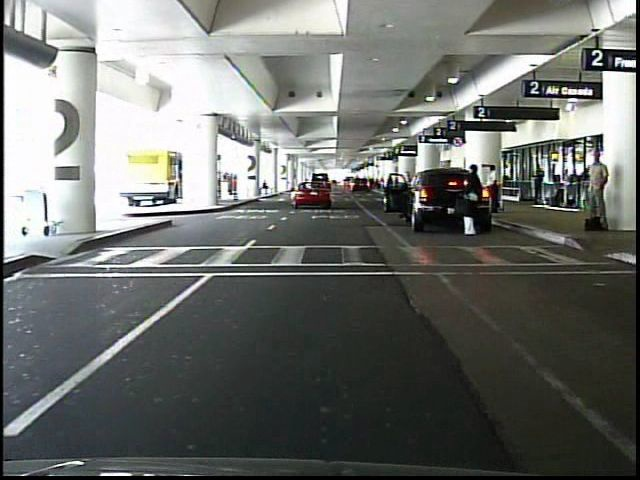person: (460, 165, 482, 239), (483, 163, 501, 214), (531, 162, 544, 203)
